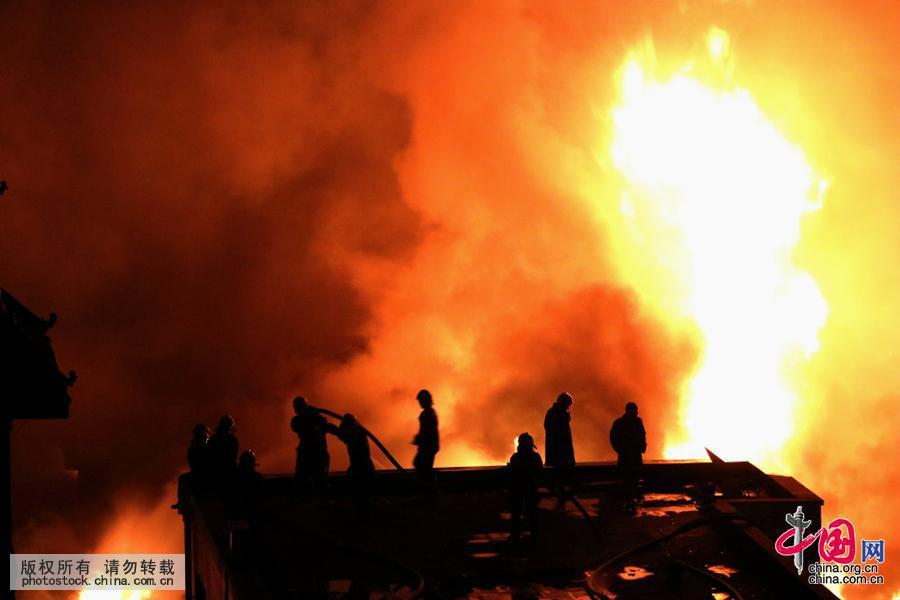fire: (565, 37, 881, 470)
